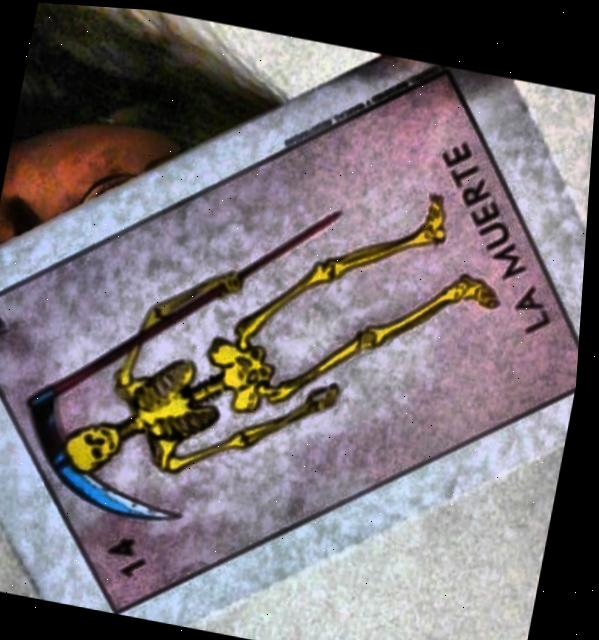La Muerte: (0, 66, 583, 610)
